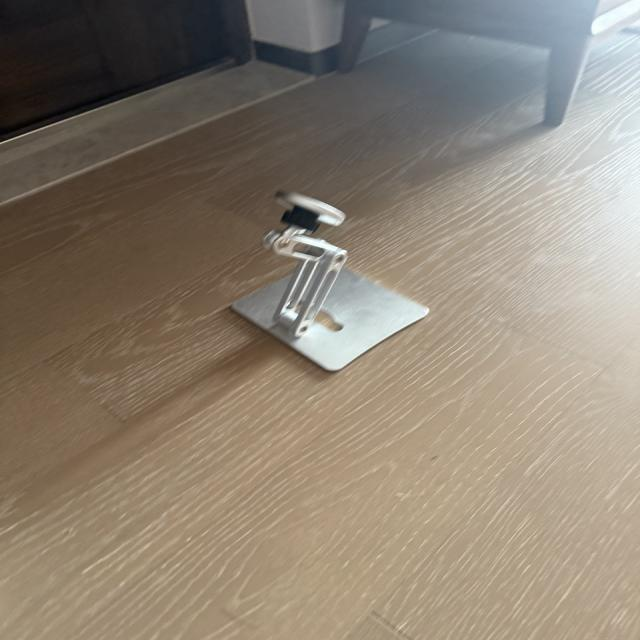phone holder: (229, 184, 436, 376)
